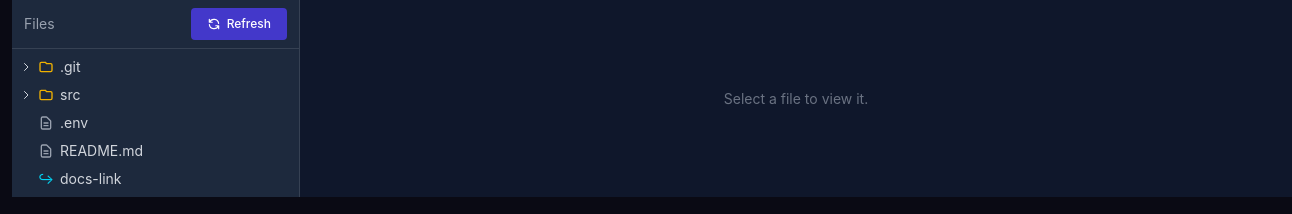
FileViewerWorkerView (desktop) › shows the content route message when the selected file cannot be read
The image size is (1292, 214).
Click the button "README.md": [102, 150] box [12,137,299,165]
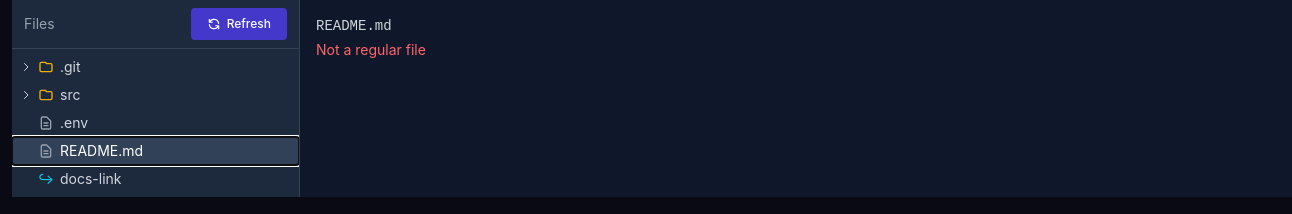
Now the message shows "Not a regular file", box [316,41,426,58]
Now the message shows "README.md", box [316,18,392,34]
